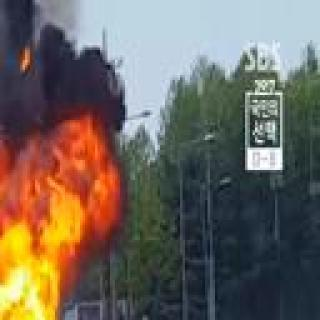fire: (0, 175, 74, 320)
